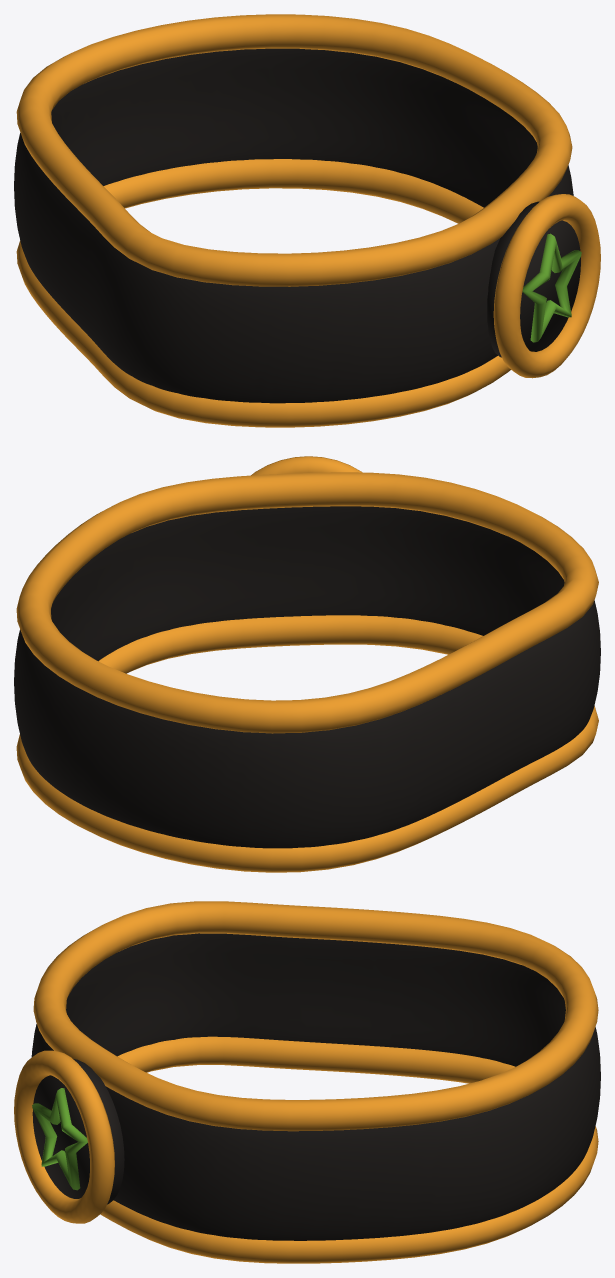
File: brazalete.glb
3 views of the same model, one above another, from view 1: azimuth 30°, elevation 25°; view 2: azimuth 150°, elevation 25°; view 3: azimuth 270°, elevation 25° (orthographic). The views are drawn at different scales.
Parts seen in each view (by area): view 1: brazalete; view 2: brazalete; view 3: brazalete.
Part boxes in pixels (left/top/right/bottom): brazalete: left=14, top=14, right=600, bottom=427; brazalete: left=14, top=456, right=600, bottom=872; brazalete: left=14, top=901, right=600, bottom=1263.
Bounding box in the file's own units: 0.2804 × 0.098 × 0.3237.
